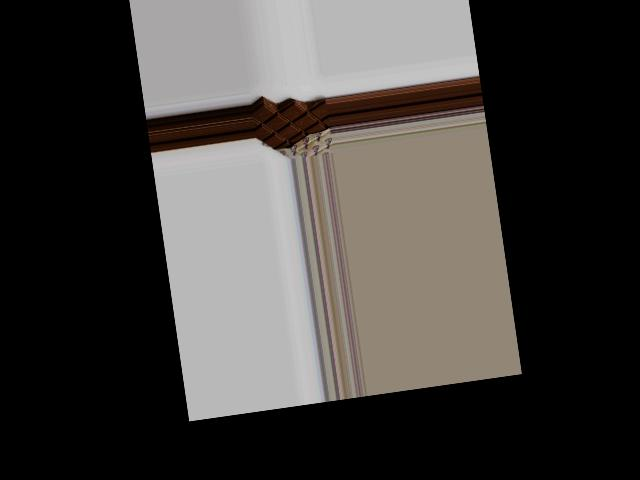chocolate: (252, 93, 334, 162)
